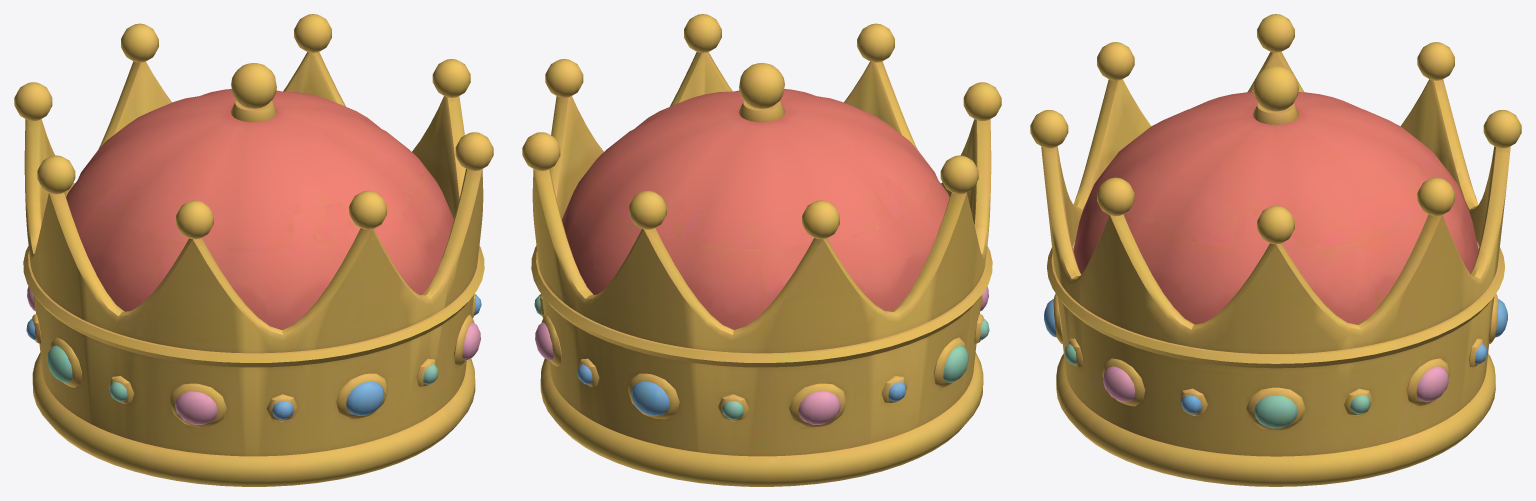
Rendered from crown.glb.
3 renders of one model, left to right at view 1: azimuth 30°, elevation 25°; view 2: azimuth 150°, elevation 25°; view 3: azimuth 270°, elevation 25°, orthographic.
Visible parts, largest first — view 1: crown_body; view 2: crown_body; view 3: crown_body.
Boxes of the visible parts, box(x1,y1,x2,y2) form: crown_body: box(14, 14, 493, 486); crown_body: box(522, 14, 1001, 486); crown_body: box(1030, 14, 1521, 486).
Size of the model in its own units: 0.2233 by 0.167 by 0.2233.
Materials: 1 (1 with a texture image).
